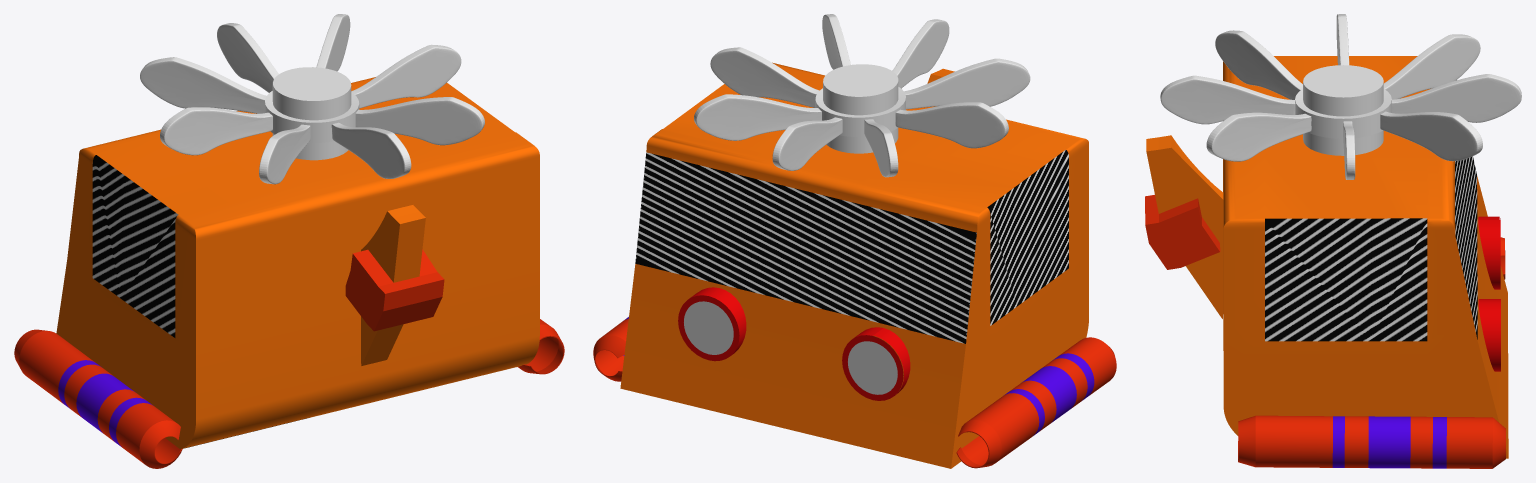
The model's file is Helicopter.fbx.
3 views of the same model, side by side, from view 1: azimuth 30°, elevation 25°; view 2: azimuth 150°, elevation 25°; view 3: azimuth 270°, elevation 25° (orthographic). The views are drawn at different scales.
Parts seen in each view (by area): view 1: Helicopter_Body.002, Rail.002, Tail.001, Middle_Propeller.001, Propeller.014, Propeller.013, Propeller.010, Propeller.011, Propeller.009, Propeller.008, Propeller.015, Rail.003 (+1 smaller); view 2: Helicopter_Body.002, Rail.002, Middle_Propeller.001, Propeller.015, Propeller.012, Lights_2.001, Propeller.010, Propeller.011, Lights.002, Propeller.008, Propeller.009, Rail.003 (+3 smaller); view 3: Helicopter_Body.002, Helicopter_Body_Pannel_Middle, Rail.003, Tail.001, Middle_Propeller.001, Propeller.009, Propeller.008, Propeller.013, Propeller.012, Propeller.014, Propeller.015, Helicopter_Body_Pannel_Top_Right (+5 smaller).
Boxes of the visible parts, x1,y1,x2,y2 form: Helicopter_Body.002: (56, 77, 539, 449); Rail.002: (14, 329, 182, 468); Tail.001: (345, 205, 444, 365); Middle_Propeller.001: (265, 67, 359, 160); Propeller.014: (140, 57, 266, 113); Propeller.013: (355, 97, 484, 145); Propeller.010: (160, 107, 272, 155); Propeller.011: (351, 44, 461, 108); Propeller.009: (331, 122, 411, 178); Propeller.008: (217, 23, 278, 92); Propeller.015: (259, 124, 310, 184); Rail.003: (518, 319, 564, 374); Helicopter_Body.002: (620, 62, 1088, 468); Rail.002: (956, 337, 1116, 468); Middle_Propeller.001: (815, 64, 905, 153); Propeller.015: (904, 58, 1030, 109); Propeller.012: (694, 94, 821, 140); Lights_2.001: (678, 287, 746, 361); Propeller.010: (895, 102, 1008, 148); Propeller.011: (710, 47, 819, 107); Lights.002: (842, 327, 903, 400); Propeller.008: (772, 117, 842, 170); Propeller.009: (892, 19, 949, 88); Rail.003: (593, 317, 628, 381); Helicopter_Body.002: (1223, 56, 1508, 458); Helicopter_Body_Pannel_Middle: (1243, 353, 1477, 418); Rail.003: (1238, 415, 1505, 468); Tail.001: (1145, 135, 1223, 318); Middle_Propeller.001: (1295, 65, 1391, 155); Propeller.009: (1160, 75, 1295, 124); Propeller.008: (1391, 74, 1521, 122); Propeller.013: (1206, 112, 1311, 161); Propeller.012: (1380, 111, 1482, 161); Propeller.014: (1383, 34, 1480, 99); Propeller.015: (1215, 30, 1302, 99); Helicopter_Body_Pannel_Top_Right: (1436, 240, 1467, 335).
Bounding box in the file's own units: 598 × 415 × 467.
Materials: 14 (1 with a texture image).
